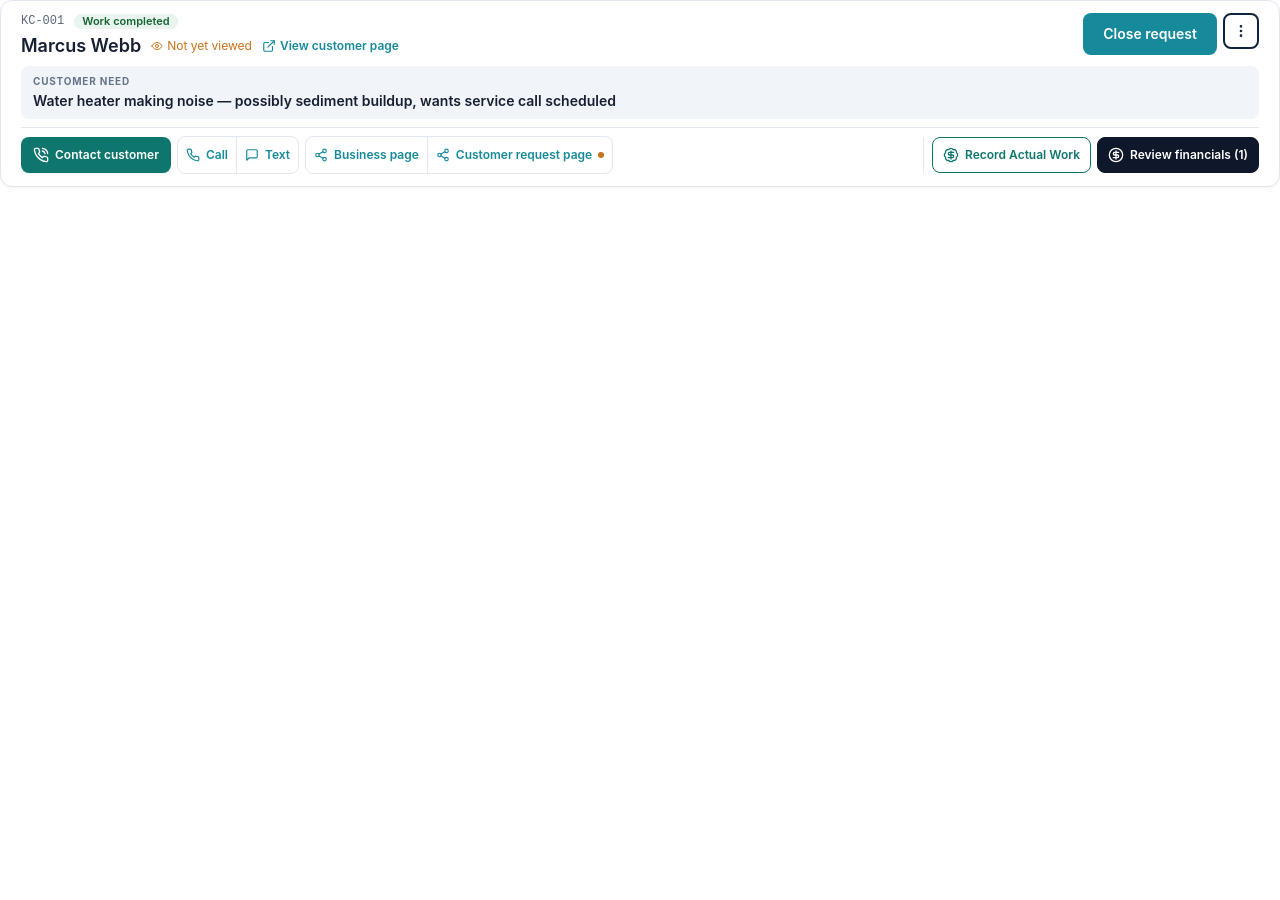
RequestDetailAnchor — compact identity and frequent actions › uses the server-authored Close action and confirmation
The image size is (1280, 900).
Click the button "Close request" at (1150, 34), box [1083,13,1217,55]
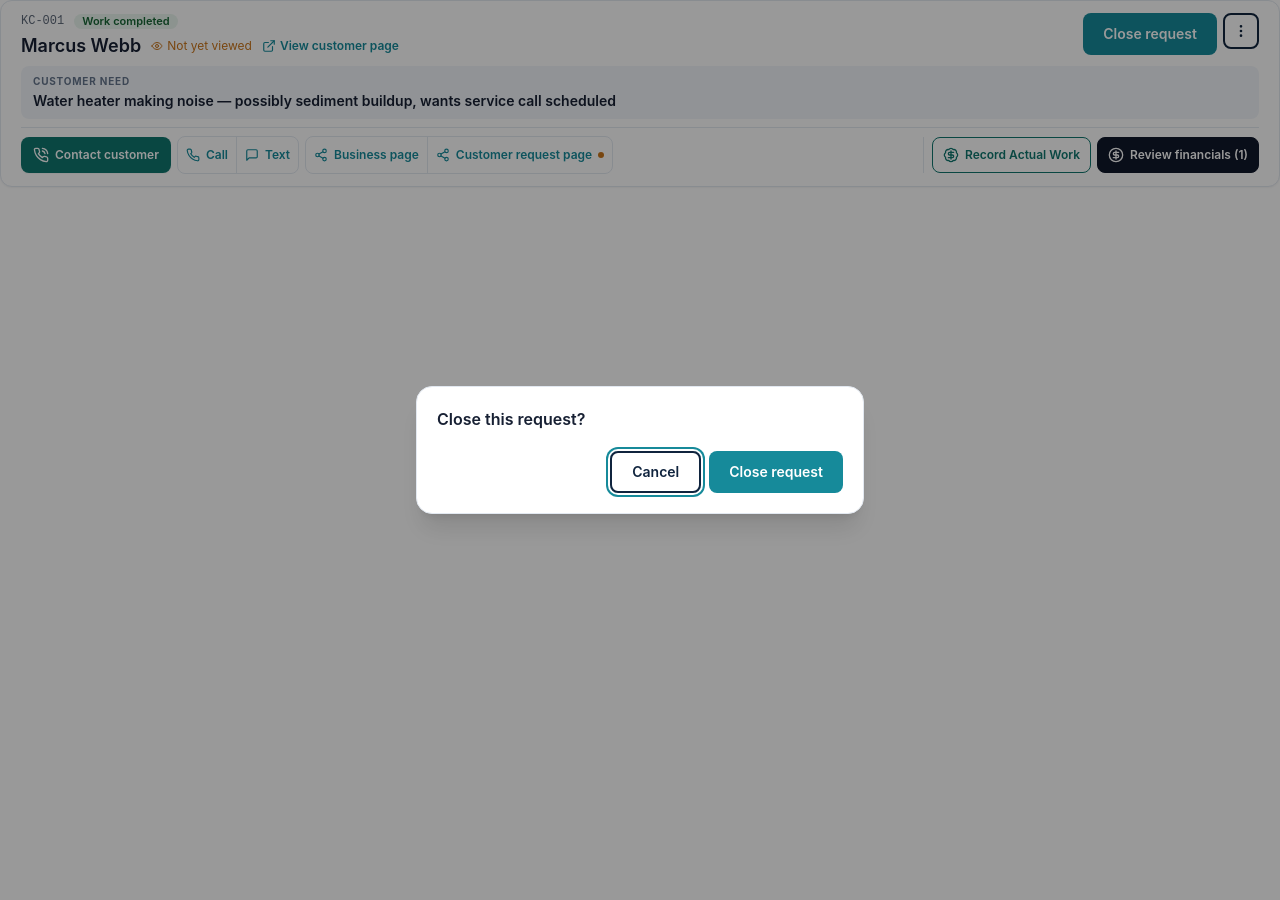
Check: the heading "Close this request?" is shown, box [437,409,585,429]
